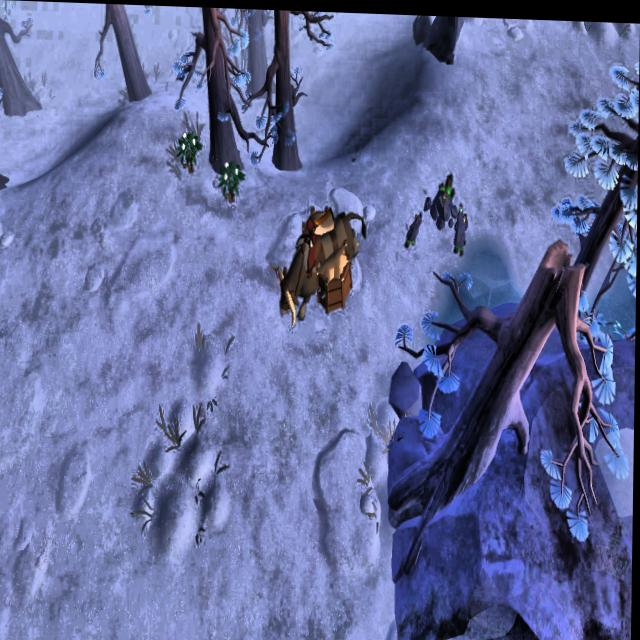fiber_t3: (220, 155, 247, 203), (176, 128, 205, 171)
